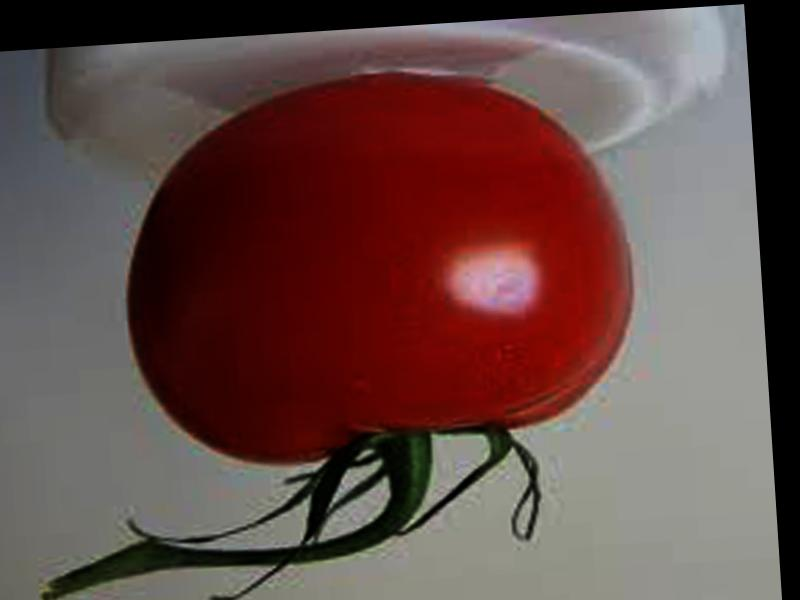Tomato: (113, 60, 642, 473)
